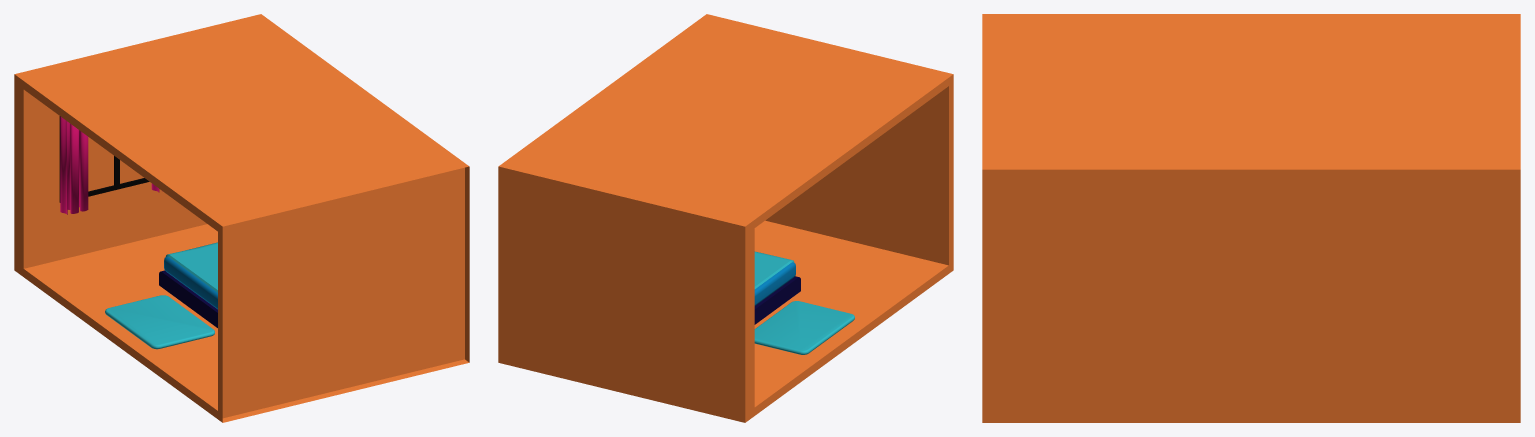
Rendered from SM_Room05.fbx.
3 renders of one model, left to right at view 1: azimuth 30°, elevation 25°; view 2: azimuth 150°, elevation 25°; view 3: azimuth 270°, elevation 25°, orthographic. The views are drawn at different scales.
Parts seen in each view (by area): view 1: Cube.258, Cube.247, Cube.214, Cube.255, Room05, Tapis rectangle.002, Living Room curtain.024, Matress.002, Bed.027, Living Room curtain.023; view 2: Cube.214, Cube.258, Cube.247, Cube.255, Tapis rectangle.002, Room05, Matress.002, Bed.027; view 3: Room05, Cube.258, Cube.214, Cube.255, Cube.247.
Boxes of the visible parts, x1=… form: Cube.258: x1=23, y1=22, x2=464, y2=231; Cube.247: x1=218, y1=163, x2=469, y2=422; Cube.214: x1=14, y1=14, x2=270, y2=276; Cube.255: x1=23, y1=224, x2=464, y2=418; Room05: x1=254, y1=21, x2=464, y2=354; Tapis rectangle.002: x1=105, y1=295, x2=214, y2=349; Living Room curtain.024: x1=60, y1=116, x2=88, y2=214; Matress.002: x1=164, y1=242, x2=217, y2=309; Bed.027: x1=159, y1=270, x2=217, y2=327; Living Room curtain.023: x1=59, y1=116, x2=149, y2=202; Cube.214: x1=498, y1=159, x2=754, y2=422; Cube.258: x1=508, y1=17, x2=948, y2=227; Cube.247: x1=702, y1=14, x2=953, y2=273; Cube.255: x1=754, y1=220, x2=948, y2=415; Tapis rectangle.002: x1=754, y1=301, x2=854, y2=354; Room05: x1=508, y1=18, x2=717, y2=163; Matress.002: x1=754, y1=251, x2=795, y2=305; Bed.027: x1=754, y1=276, x2=800, y2=324; Room05: x1=994, y1=159, x2=1496, y2=411; Cube.258: x1=994, y1=14, x2=1496, y2=180; Cube.214: x1=1496, y1=14, x2=1520, y2=422; Cube.255: x1=994, y1=412, x2=1496, y2=422; Cube.247: x1=982, y1=14, x2=994, y2=422.
Bounding box in the file's own units: 55000 × 41807 × 80421.
